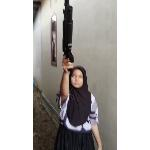Senapan: (59, 0, 81, 72)
